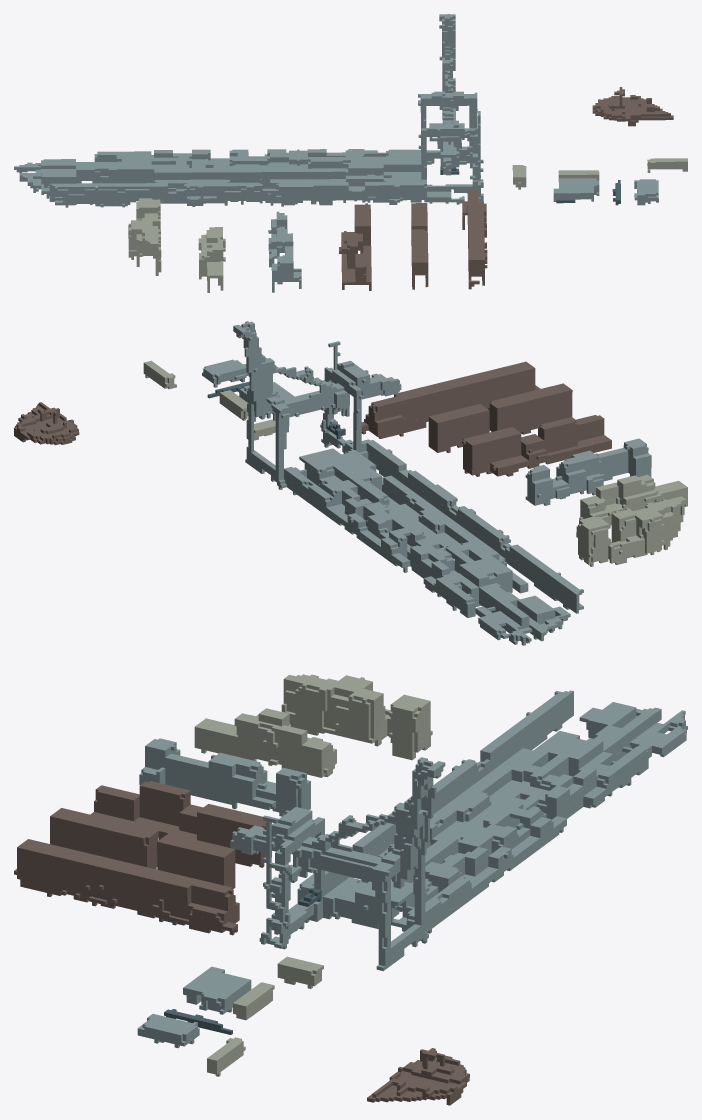
The picture shows the model from 3 angles, top to bottom: view 1: azimuth 30°, elevation 25°; view 2: azimuth 150°, elevation 25°; view 3: azimuth 270°, elevation 25°; orthographic projection. The views are drawn at different scales.
Parts seen in each view (by area): view 1: measured-industrial; view 2: measured-industrial; view 3: measured-industrial.
Boxes of the visible parts, x1=… form: measured-industrial: x1=14, y1=14, x2=687, y2=292; measured-industrial: x1=14, y1=321, x2=687, y2=645; measured-industrial: x1=14, y1=674, x2=687, y2=1105.
Size of the model in its own units: 238 by 58.94 by 175.
